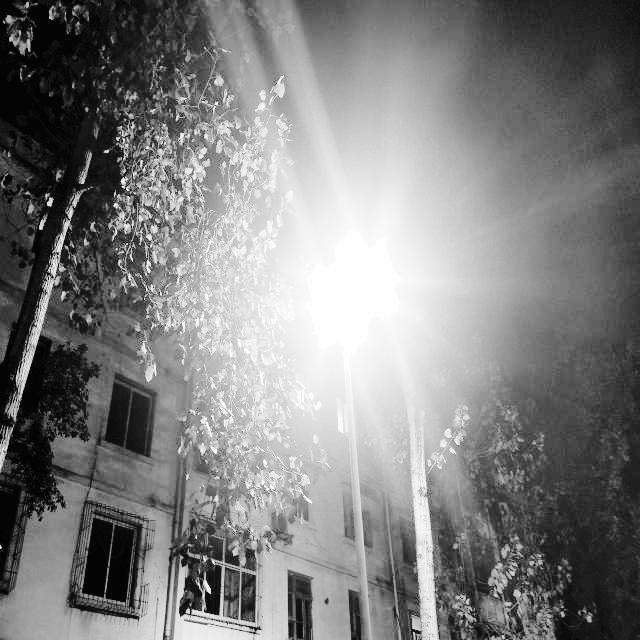Light: (289, 95, 490, 419)
Tree: (0, 0, 135, 479), (392, 348, 446, 638)
